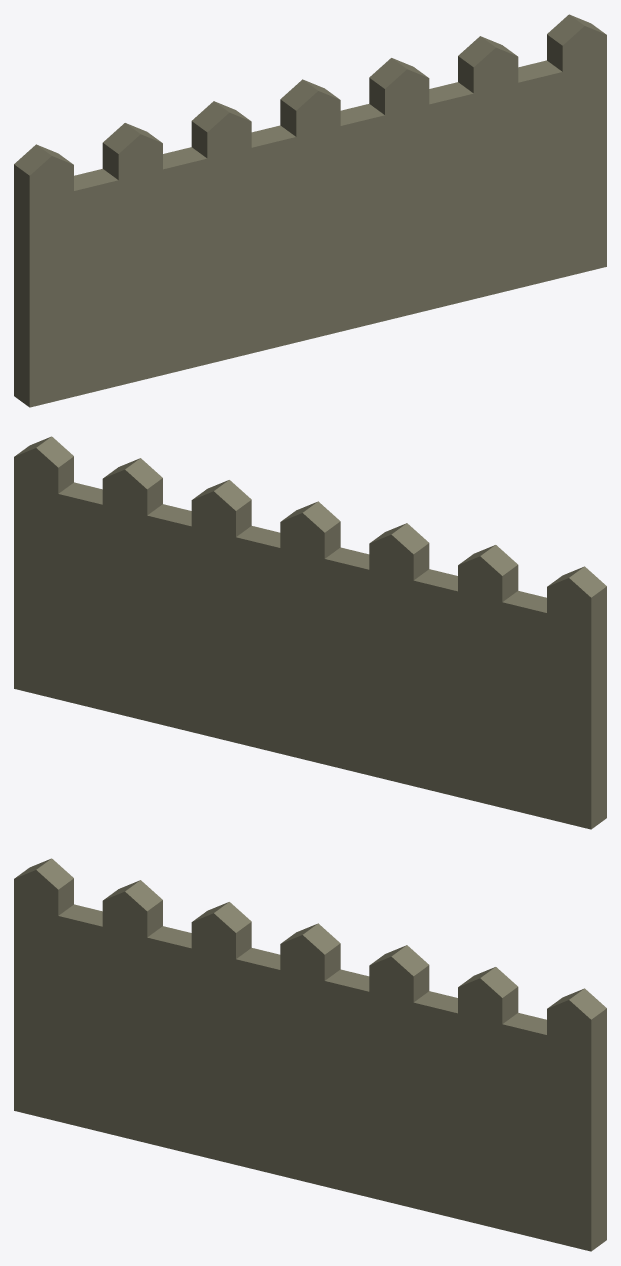
The model's file is Barracks_fence_mat.fbx.
The picture shows the model from 3 angles, top to bottom: view 1: azimuth 30°, elevation 25°; view 2: azimuth 150°, elevation 25°; view 3: azimuth 330°, elevation 25°; orthographic projection.
Visible parts, largest first — view 1: Barracks_fence_mat; view 2: Barracks_fence_mat; view 3: Barracks_fence_mat.
Part boxes in pixels (box(x1,y1,x2,y2)): Barracks_fence_mat: box(14, 14, 606, 407); Barracks_fence_mat: box(14, 436, 606, 829); Barracks_fence_mat: box(14, 858, 606, 1251).
Size of the model in its own units: 503 by 205 by 23.78.
